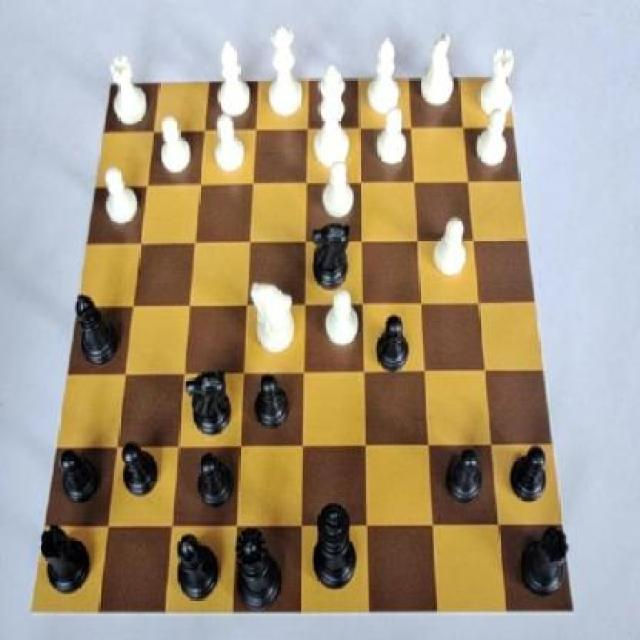bishop: (72, 288, 124, 378), (172, 531, 224, 611)
black-bishop: (310, 498, 358, 601)
black-king: (182, 362, 238, 436), (306, 217, 357, 293)
black-knight: (440, 446, 493, 523), (57, 443, 105, 512), (192, 449, 238, 520), (505, 440, 552, 509), (121, 434, 164, 509), (250, 371, 296, 439), (369, 312, 417, 377)
black-pawn: (234, 519, 288, 616)
black-queen: (38, 518, 97, 602), (516, 523, 574, 606)
black-rook: (363, 29, 405, 121), (212, 35, 255, 118)
white-bishop: (312, 59, 350, 172)
white-king: (250, 274, 298, 365), (416, 31, 460, 114)
white-knight: (318, 286, 361, 361), (428, 208, 474, 278), (472, 105, 515, 172), (314, 156, 356, 224), (100, 165, 142, 230), (372, 103, 411, 171), (155, 114, 191, 184), (210, 115, 248, 178)
white-pawn: (263, 21, 305, 120)
white-queen: (472, 38, 521, 121), (108, 51, 148, 127)
